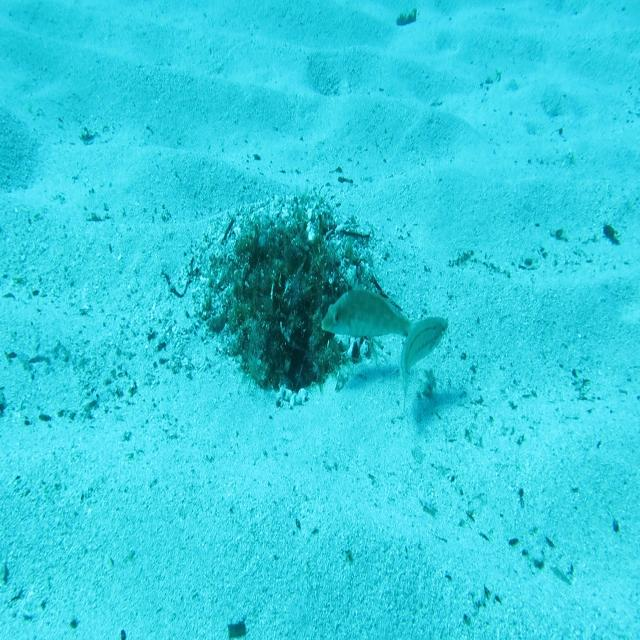BK_SW: (318, 275, 416, 343)
core_nest: (260, 236, 313, 279)
female: (399, 314, 450, 416)
nest: (189, 184, 397, 413)
vegetation: (394, 10, 419, 27)
